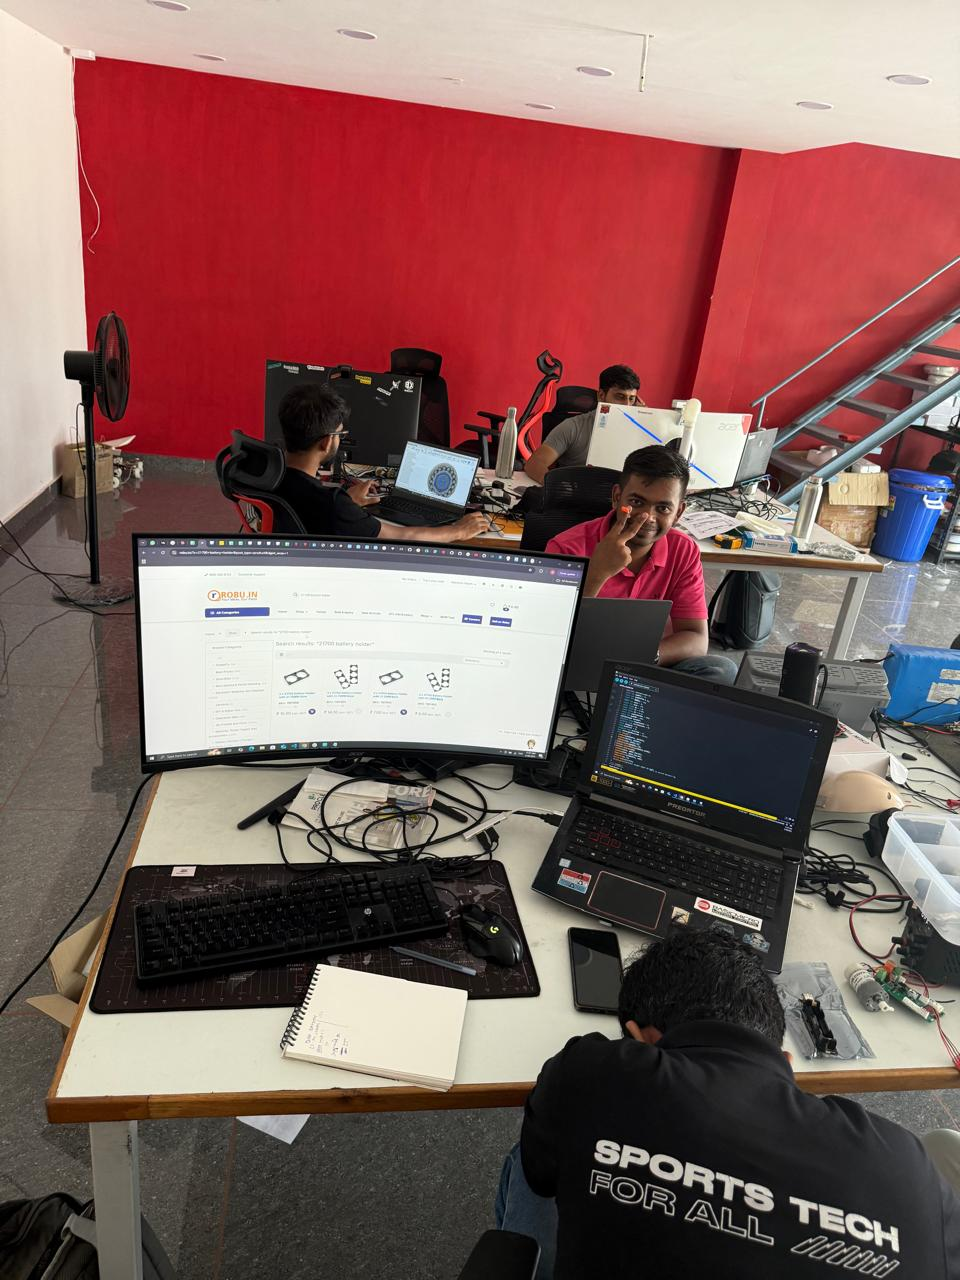bottle_on_table: (769, 461, 851, 577)
